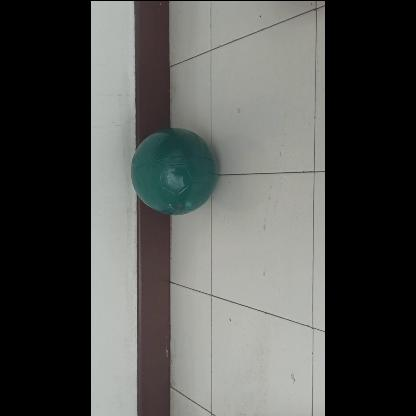green_ball: (130, 126, 216, 212)
